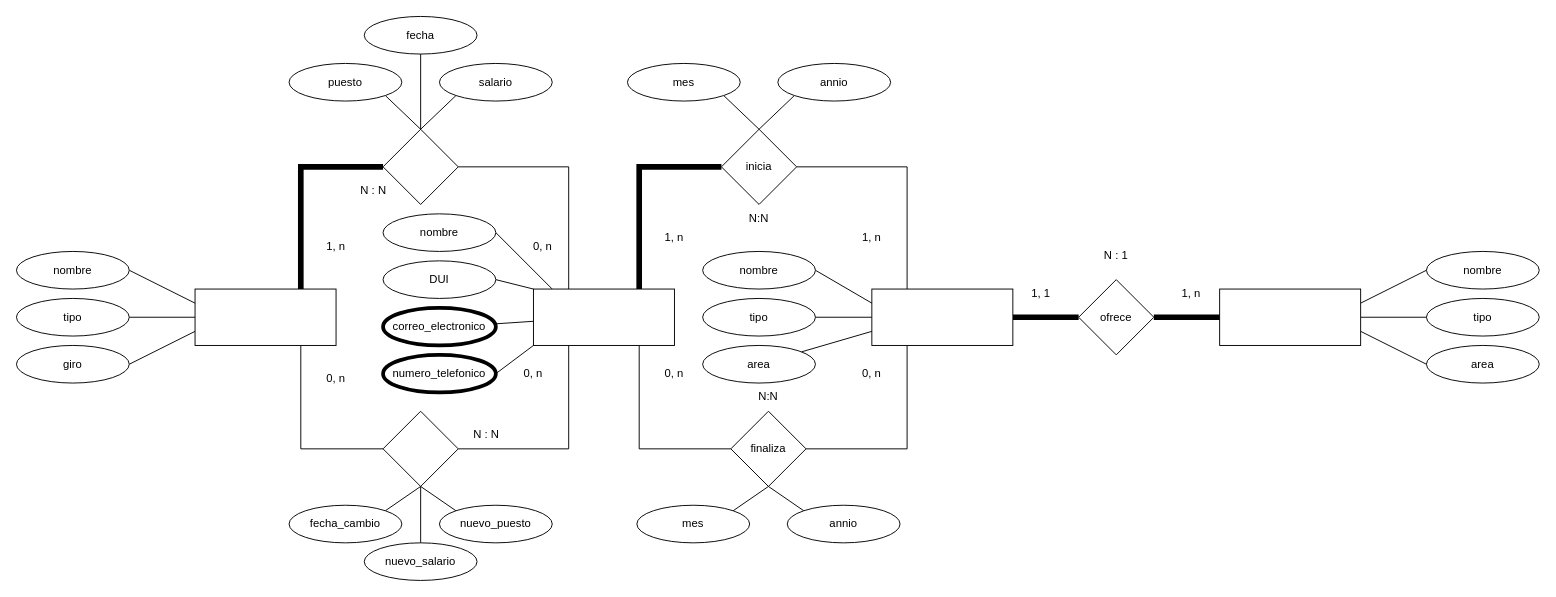
This 1556x597 diagram has some shape labels left out. Each missing label, with the box of its shape:
asciende: (382, 410, 458, 486)
Carrera: (871, 288, 1013, 345)
Empresa: (194, 288, 336, 345)
inicia trabajo: (382, 128, 458, 204)
Persona: (533, 288, 674, 345)
Universidad: (1219, 288, 1361, 345)
